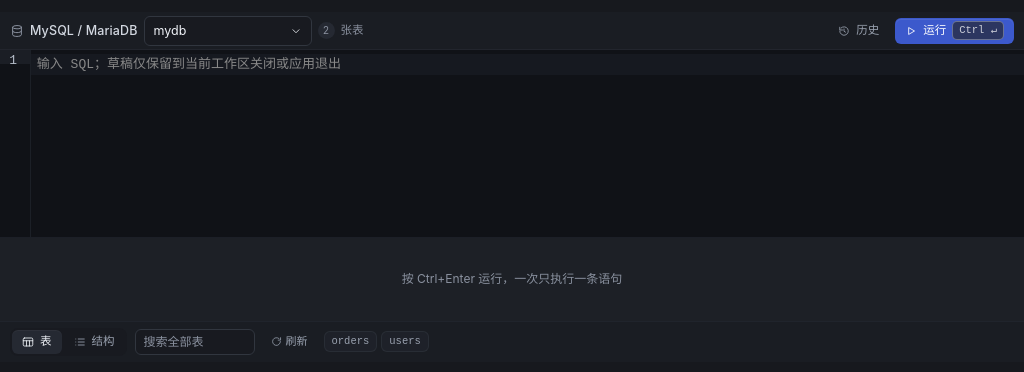
Test: DbPanel SQL drafts › replaces an empty or unmodified generated query without confirmation
This screenshot has width=1024, height=372.
Click the button "orders". click: [350, 342]
box: [324,331,377,352]
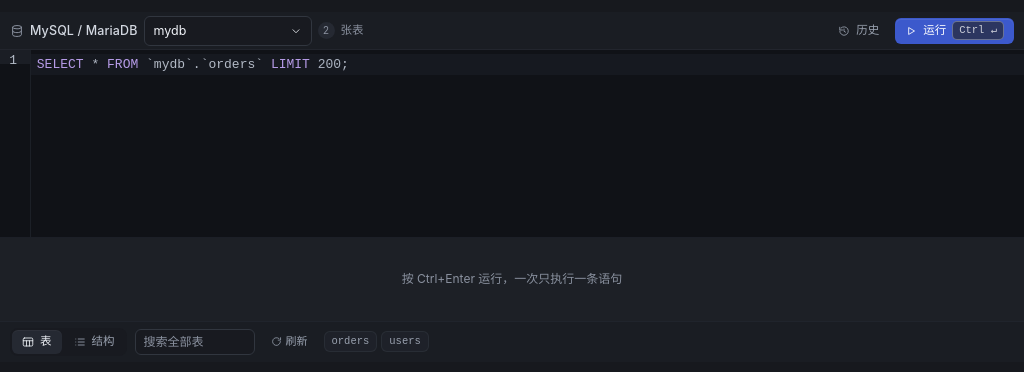
Now the text box labelled "SELECT * FROM `mydb`.`orders` LIMIT 200;" is shown, box [31,54,1023,75]
Click the button "users". click: [405, 342]
box: [381,331,429,352]
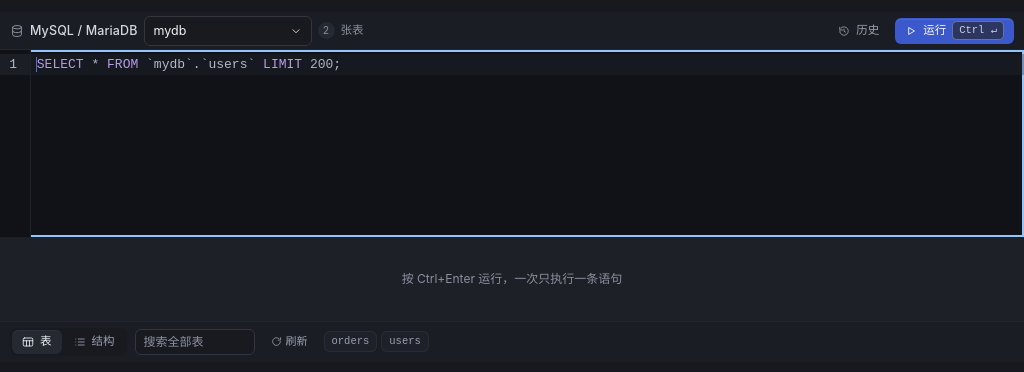
Now the text box labelled "SELECT * FROM `mydb`.`users` LIMIT 200;" is shown, box [31,54,1023,75]
